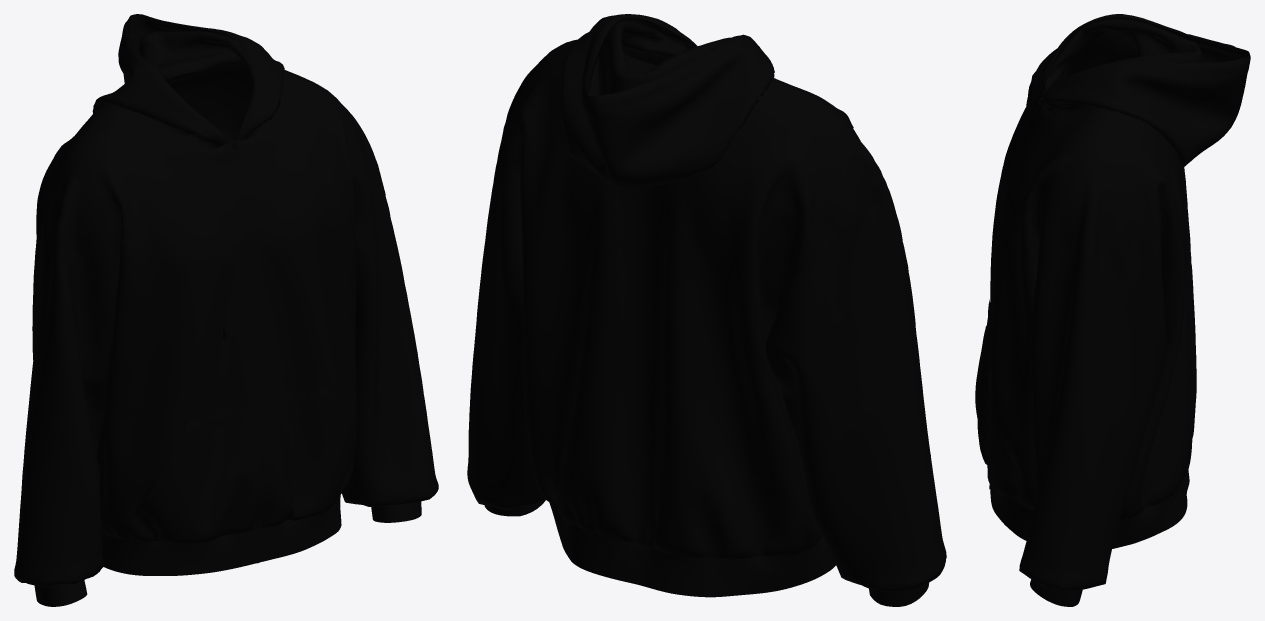
Rendered from 3dmodel-3.gltf.
3 views of the same model, side by side, from view 1: azimuth 30°, elevation 25°; view 2: azimuth 150°, elevation 25°; view 3: azimuth 270°, elevation 25° (orthographic). The views are drawn at different scales.
Visible parts, largest first — view 1: 3Dmodelexport; view 2: 3Dmodelexport; view 3: 3Dmodelexport.
Boxes of the visible parts, x1,y1,x2,y2 form: 3Dmodelexport: (14,14,438,606); 3Dmodelexport: (467,14,946,606); 3Dmodelexport: (975,14,1250,606).
Size of the model in its own units: 6.5 by 7.31 by 3.81.
1 material, 1 textured.
